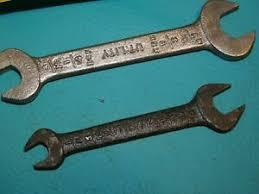wrench: (0, 0, 255, 103), (21, 81, 246, 171)
